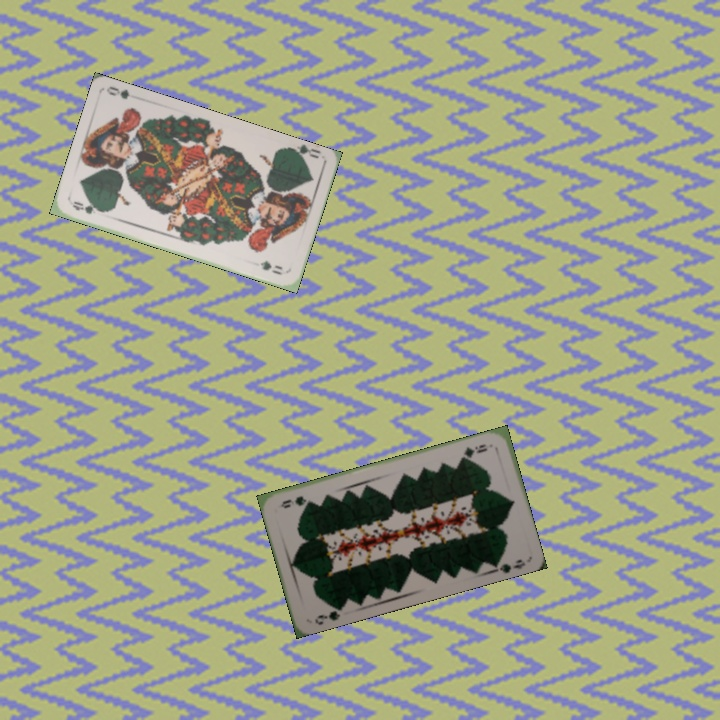G9: (311, 602, 345, 627), (457, 440, 489, 461)
GO: (283, 142, 322, 164), (68, 197, 108, 217)
